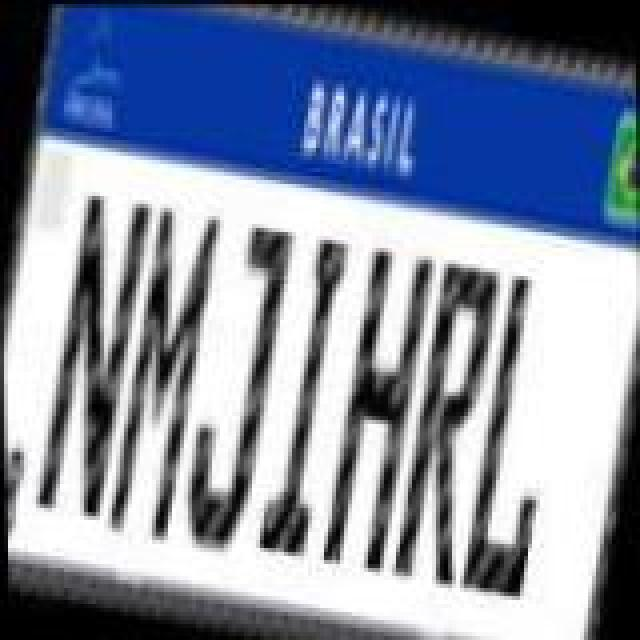H: (316, 242, 444, 582)
I: (250, 228, 366, 564)
J: (168, 216, 304, 560)
L: (452, 264, 580, 604)
M: (96, 198, 228, 546)
N: (24, 188, 156, 528)
R: (384, 254, 512, 594)
